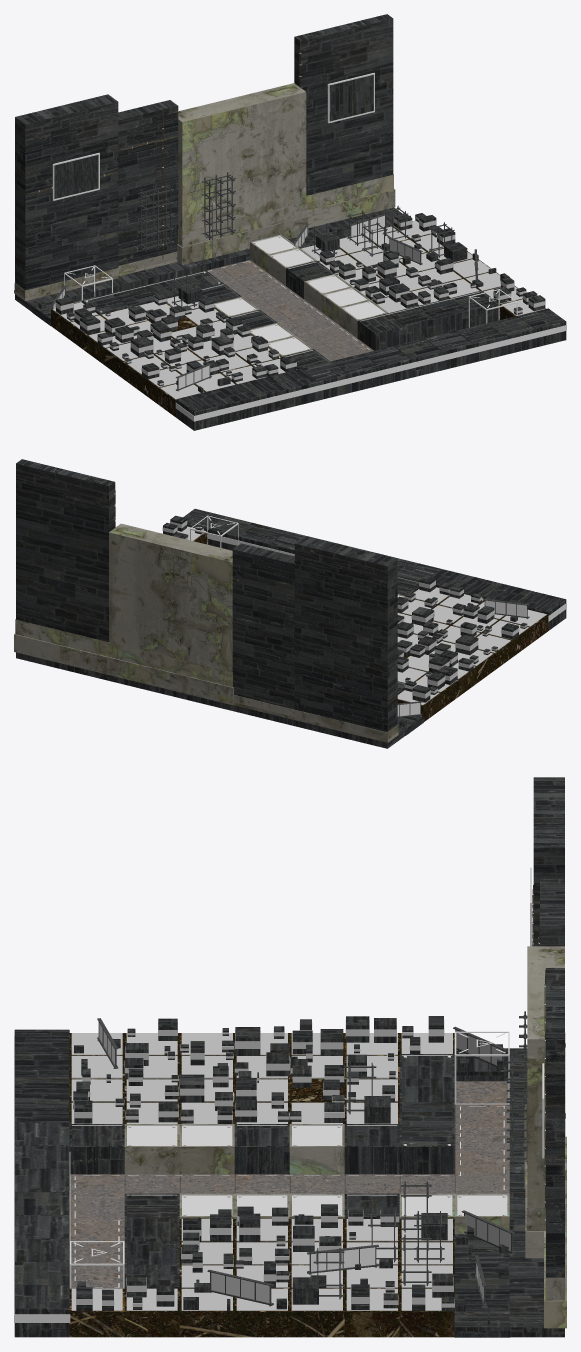
The model's file is level 2.fbx.
The picture shows the model from 3 angles, top to bottom: view 1: azimuth 30°, elevation 25°; view 2: azimuth 150°, elevation 25°; view 3: azimuth 270°, elevation 25°; orthographic projection. The views are drawn at different scales.
Visible parts, largest first — view 1: Obj_000843, Obj_000841, Obj_000840, Obj_000494, Obj_000844, Obj_000481, Obj_000839, Obj_000141, Obj_000849, Obj_000845, Obj_000002, Obj_000847 (+10 smaller); view 2: Obj_000843, Obj_000840, Obj_000841, Obj_000844, Obj_000494, Obj_000481, Obj_000849, Obj_000845, Obj_000847, Obj_000842, Obj_000846, Obj_000848 (+7 smaller); view 3: Obj_000494, Obj_000840, Obj_000481, Obj_000841, Obj_000437, Obj_000843, Obj_000844, Obj_000413, Obj_000412, Obj_000426, Obj_000422, Obj_000228 (+73 smaller).
Boxes of the visible parts, bbox=[...] form: Obj_000843: bbox=[15, 94, 118, 290]; Obj_000841: bbox=[178, 83, 306, 231]; Obj_000840: bbox=[294, 14, 393, 195]; Obj_000494: bbox=[176, 308, 566, 430]; Obj_000844: bbox=[118, 100, 178, 265]; Obj_000481: bbox=[15, 207, 401, 311]; Obj_000839: bbox=[175, 325, 566, 421]; Obj_000141: bbox=[375, 303, 499, 350]; Obj_000849: bbox=[177, 216, 308, 264]; Obj_000845: bbox=[178, 201, 306, 246]; Obj_000002: bbox=[329, 75, 373, 121]; Obj_000847: bbox=[307, 189, 395, 228]; Obj_000843: bbox=[294, 536, 397, 732]; Obj_000840: bbox=[16, 459, 114, 641]; Obj_000841: bbox=[109, 523, 232, 672]; Obj_000844: bbox=[232, 543, 294, 709]; Obj_000494: bbox=[183, 509, 566, 630]; Obj_000481: bbox=[16, 652, 405, 748]; Obj_000849: bbox=[107, 657, 233, 705]; Obj_000845: bbox=[108, 642, 232, 687]; Obj_000847: bbox=[14, 634, 109, 674]; Obj_000842: bbox=[15, 619, 108, 656]; Obj_000846: bbox=[295, 710, 398, 739]; Obj_000848: bbox=[233, 695, 294, 716]; Obj_000494: bbox=[14, 1029, 69, 1337]; Obj_000840: bbox=[546, 968, 564, 1277]; Obj_000481: bbox=[509, 1048, 564, 1337]; Obj_000841: bbox=[527, 946, 564, 1207]; Obj_000437: bbox=[454, 1234, 509, 1330]; Obj_000843: bbox=[533, 777, 564, 946]; Obj_000844: bbox=[540, 879, 564, 946]; Obj_000413: bbox=[124, 1288, 179, 1337]; Obj_000412: bbox=[69, 1288, 124, 1337]; Obj_000426: bbox=[344, 1288, 399, 1337]; Obj_000422: bbox=[289, 1288, 344, 1337]; Obj_000228: bbox=[399, 1146, 454, 1174].
Size of the model in its own units: 1206 by 600 by 1005.
